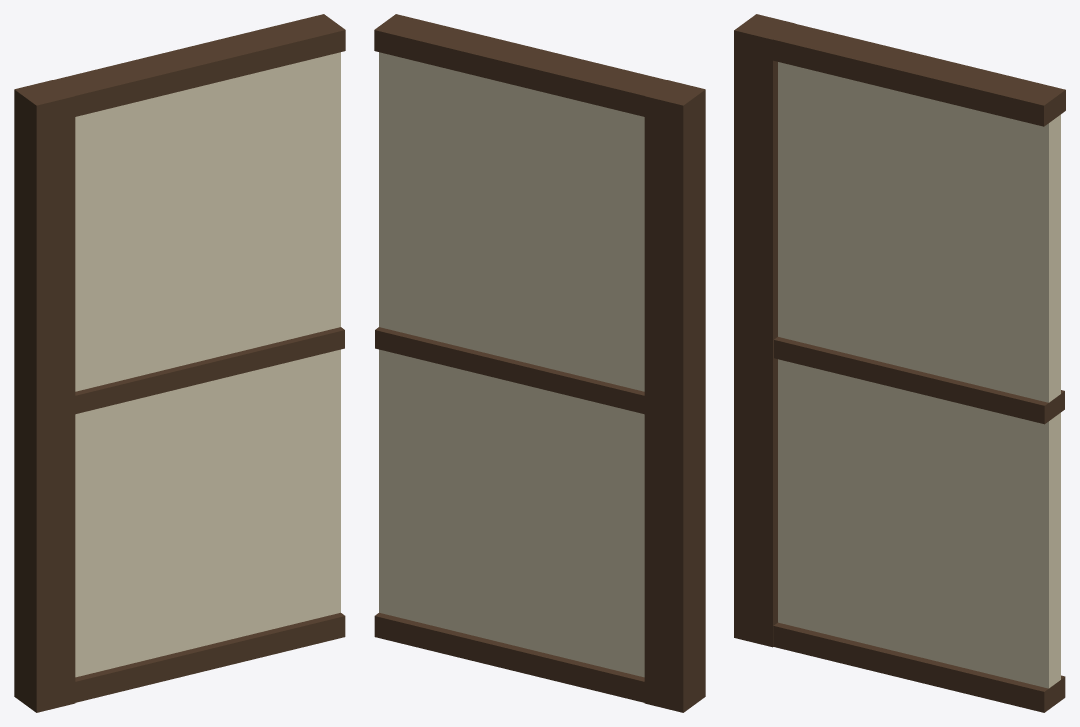
File: lime_bay.glb
The picture shows the model from 3 angles, left to right: view 1: azimuth 30°, elevation 25°; view 2: azimuth 150°, elevation 25°; view 3: azimuth 330°, elevation 25°; orthographic projection.
Visible parts, largest first — view 1: Lime bay; view 2: Lime bay; view 3: Lime bay.
Part boxes in pixels (left/top/right/bottom): Lime bay: left=14, top=14, right=345, bottom=712; Lime bay: left=374, top=14, right=705, bottom=712; Lime bay: left=734, top=14, right=1065, bottom=712.
Bounding box in the file's own units: 1 × 1.88 × 0.125.
